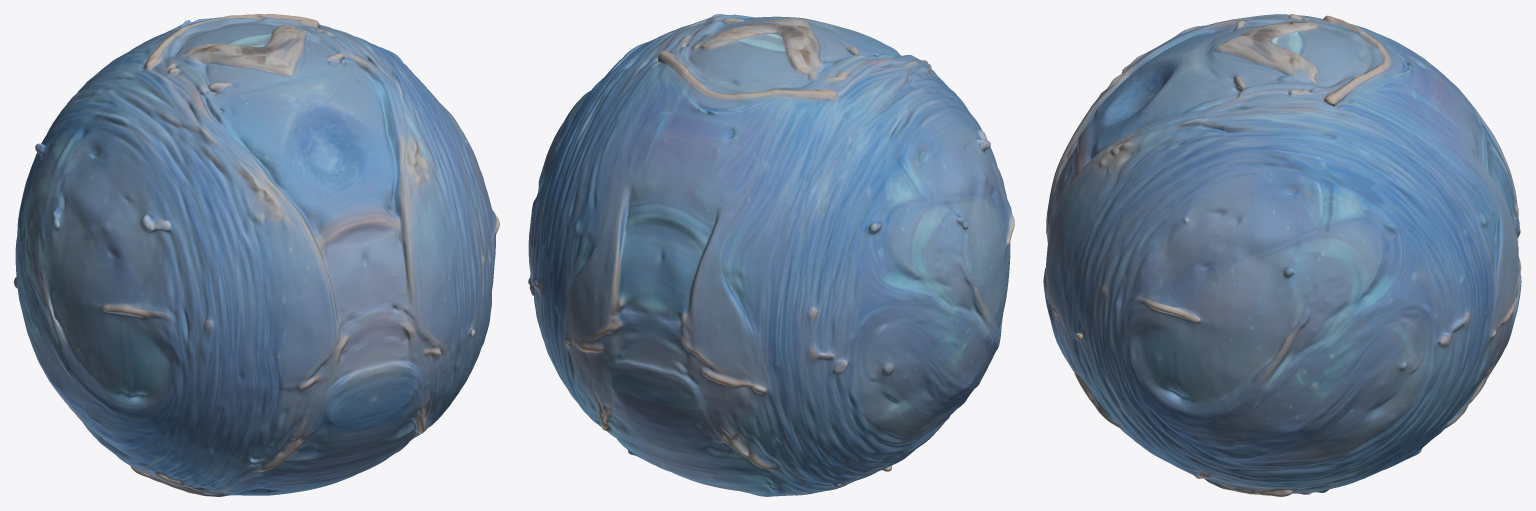
File: sjq.glb
The picture shows the model from 3 angles, left to right: view 1: azimuth 30°, elevation 25°; view 2: azimuth 150°, elevation 25°; view 3: azimuth 270°, elevation 25°; orthographic projection.
Visible parts, largest first — view 1: tripo_node_42240b06-00d7-46e1-8268-61558579ab99; view 2: tripo_node_42240b06-00d7-46e1-8268-61558579ab99; view 3: tripo_node_42240b06-00d7-46e1-8268-61558579ab99.
Boxes of the visible parts, x1,y1,x2,y2 form: tripo_node_42240b06-00d7-46e1-8268-61558579ab99: [14, 14, 499, 496]; tripo_node_42240b06-00d7-46e1-8268-61558579ab99: [528, 14, 1014, 496]; tripo_node_42240b06-00d7-46e1-8268-61558579ab99: [1043, 14, 1521, 496].
Size of the model in its own units: 0.948 by 0.9372 by 0.9451.
Materials: 1 (1 with a texture image).
